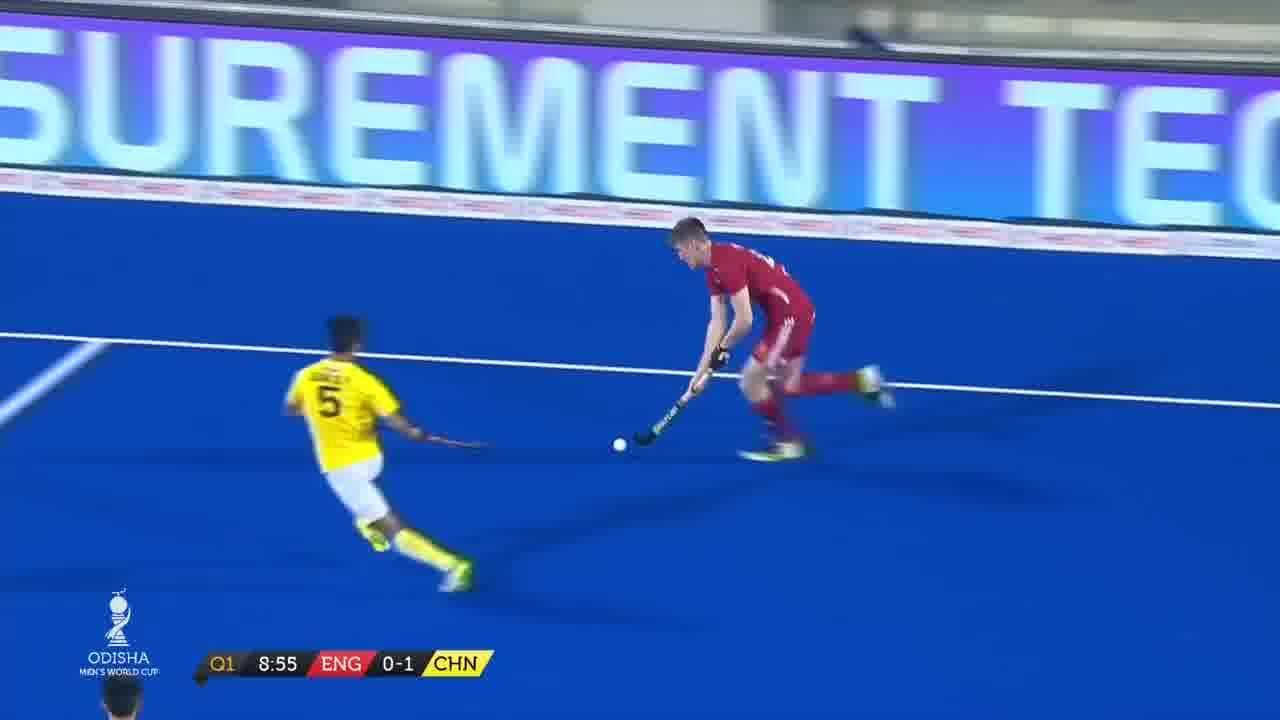ball: (608, 430, 634, 462)
